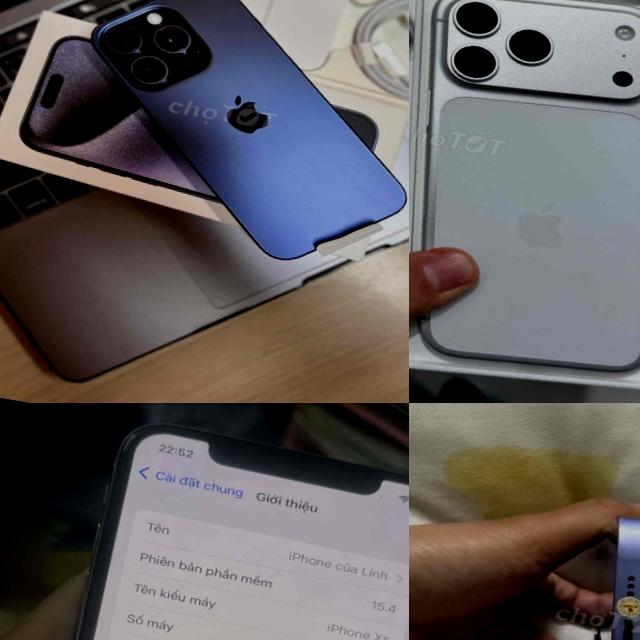gen_12_13: (567, 510, 640, 640)
gen_15: (56, 0, 409, 282)
gen_17: (409, 0, 640, 400)
gen_x_xs: (2, 403, 409, 640)
